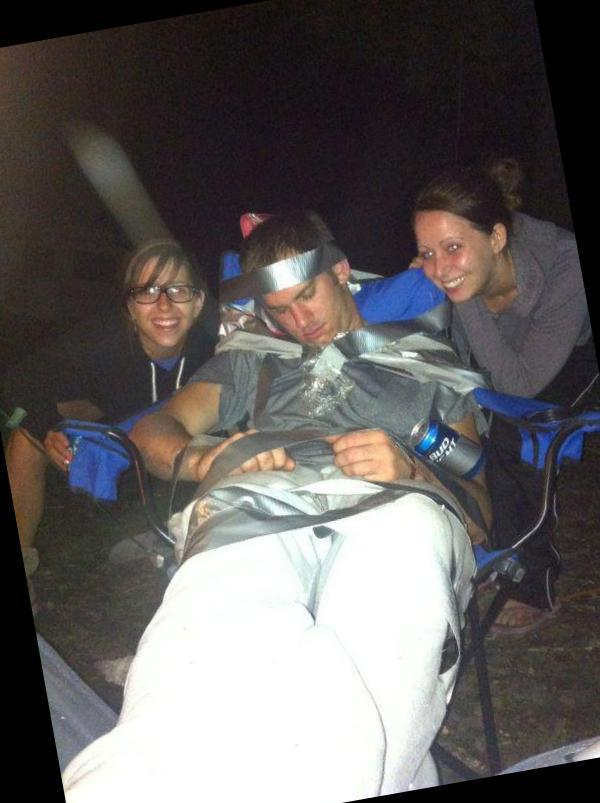Drunk: (417, 212, 497, 303), (259, 267, 346, 347), (136, 254, 197, 348)
